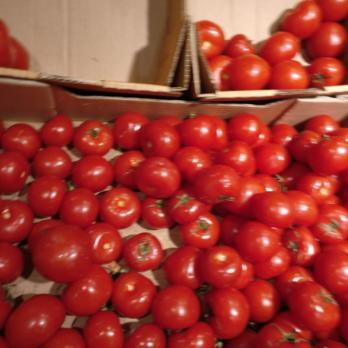Tomato: (4, 107, 348, 348), (201, 10, 280, 98), (284, 4, 345, 86)
